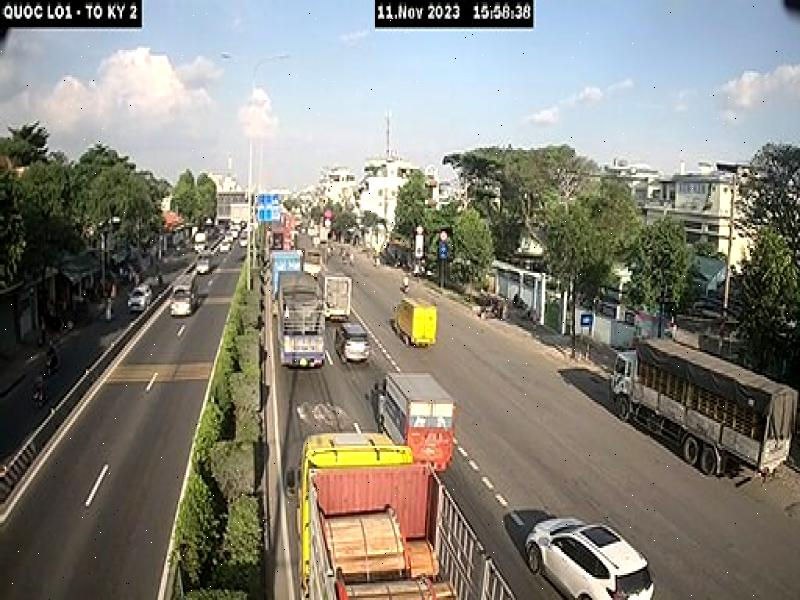truck: (286, 426, 514, 600), (611, 332, 800, 485), (371, 370, 454, 470), (278, 265, 326, 373), (390, 296, 440, 349)
